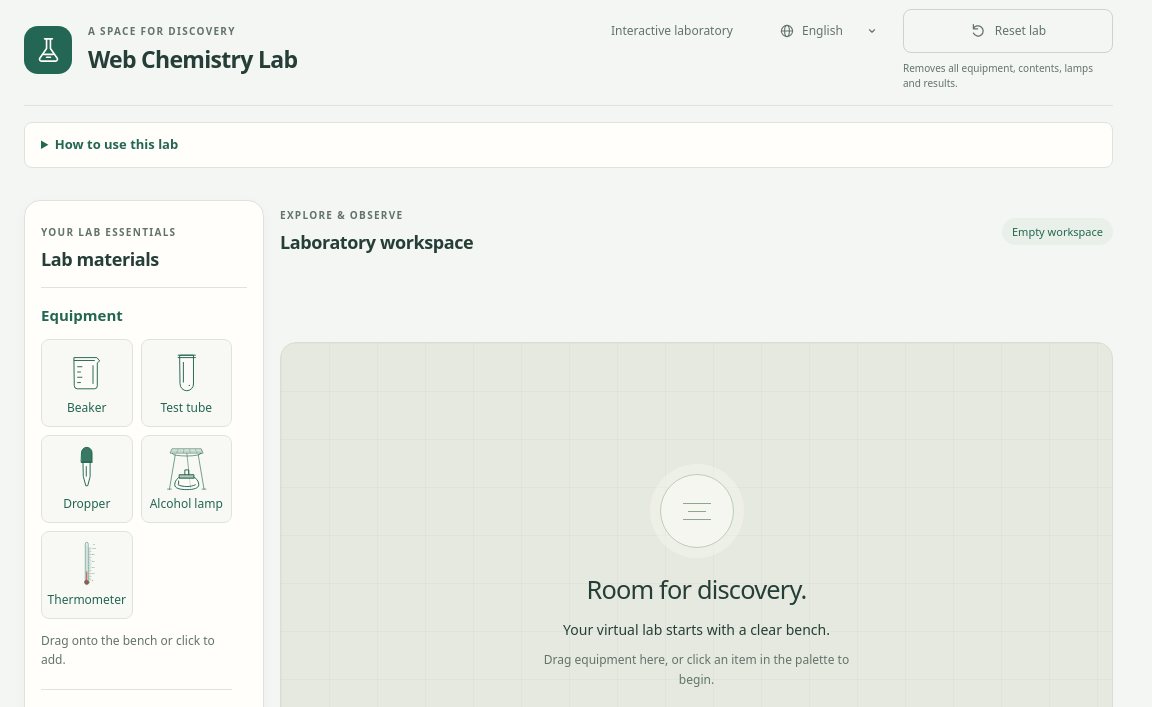
Experiment Sample/Result tabs › shows dropper transfer controls directly without container tabs or Mix
What coordinates should you click on to do the following:
click the button with aria-label "Add Dropper"
I would click on:
 (87, 478)
Its box is [41,434,132,522].
(page scrolled)
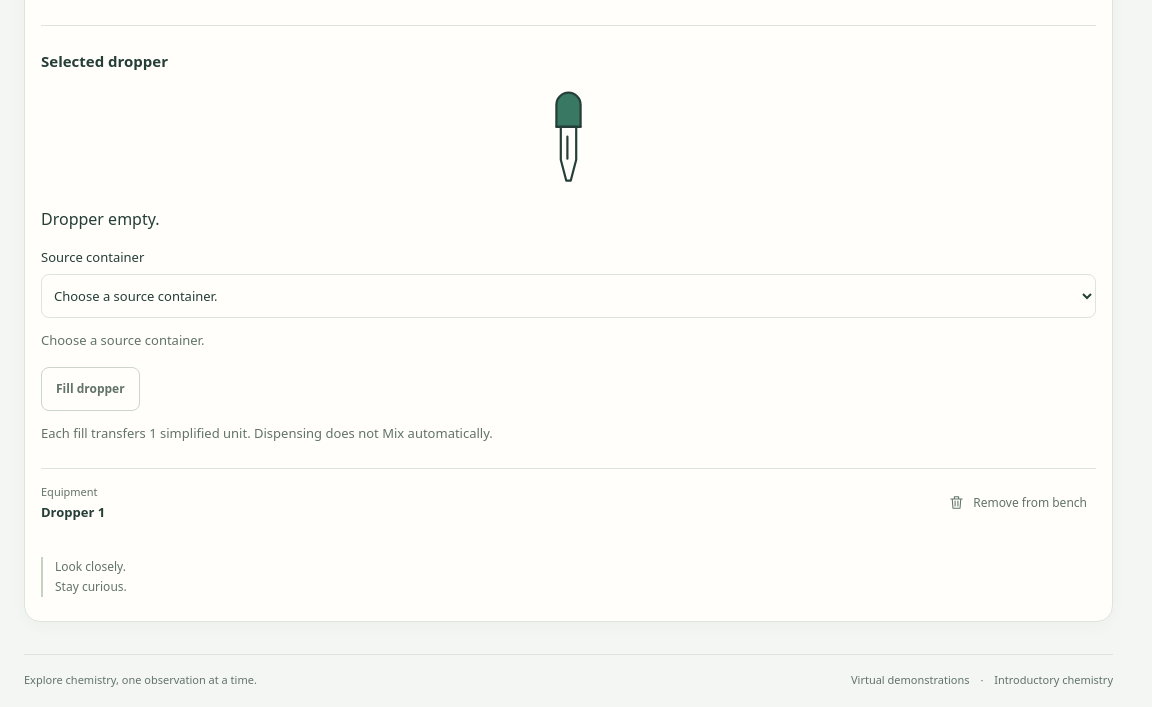
Expected: the heading "Selected dropper" is shown, [41,51,168,71]
Expected: the dropdown labelled "Source container" is shown, [41,274,1096,318]
Expected: the button "Fill dropper" is disabled, [41,367,140,411]
